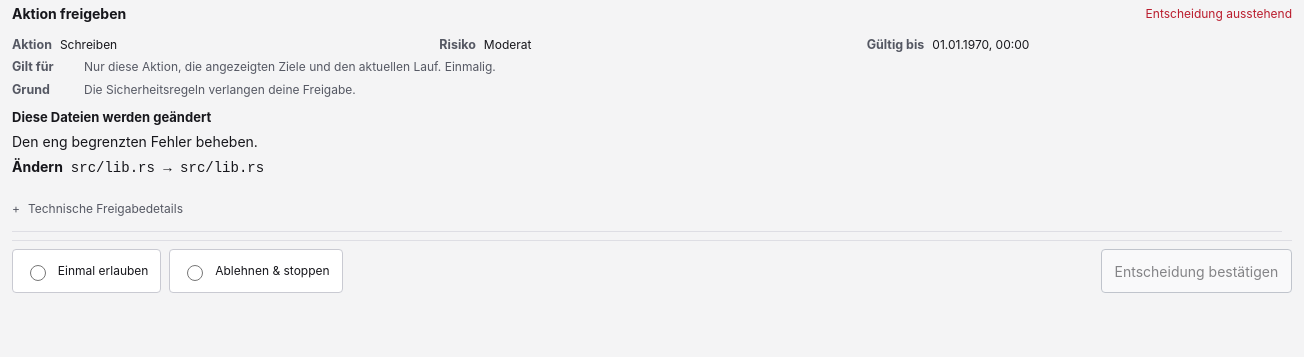
Test case: AgentApprovalCenter › requires an explicit neutral choice before storing a grant
Click the radio button with aria-label "Diese Aktion einmal erlauben": (38, 273) [30,265,46,281]
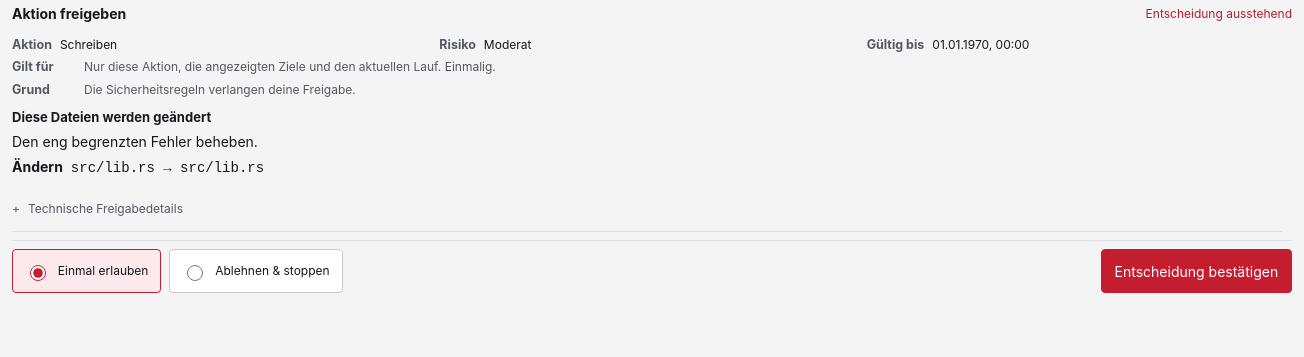
Click the button "Entscheidung bestätigen": (1196, 271) [1101,249,1292,293]
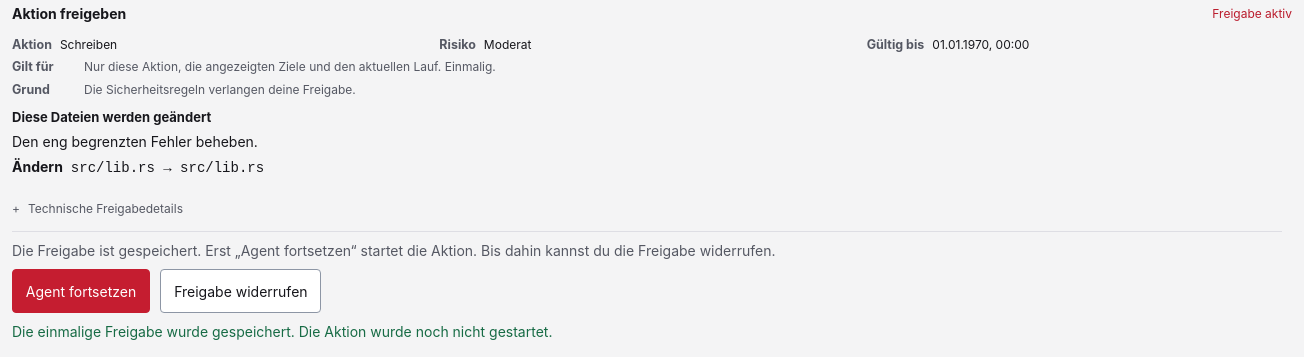
Expected: the text "Die Freigabe ist gespeichert. Erst „Agent fortsetzen“ startet die Aktion. Bis dahin kannst du die Freigabe widerrufen." is shown, [12,242,776,259]
